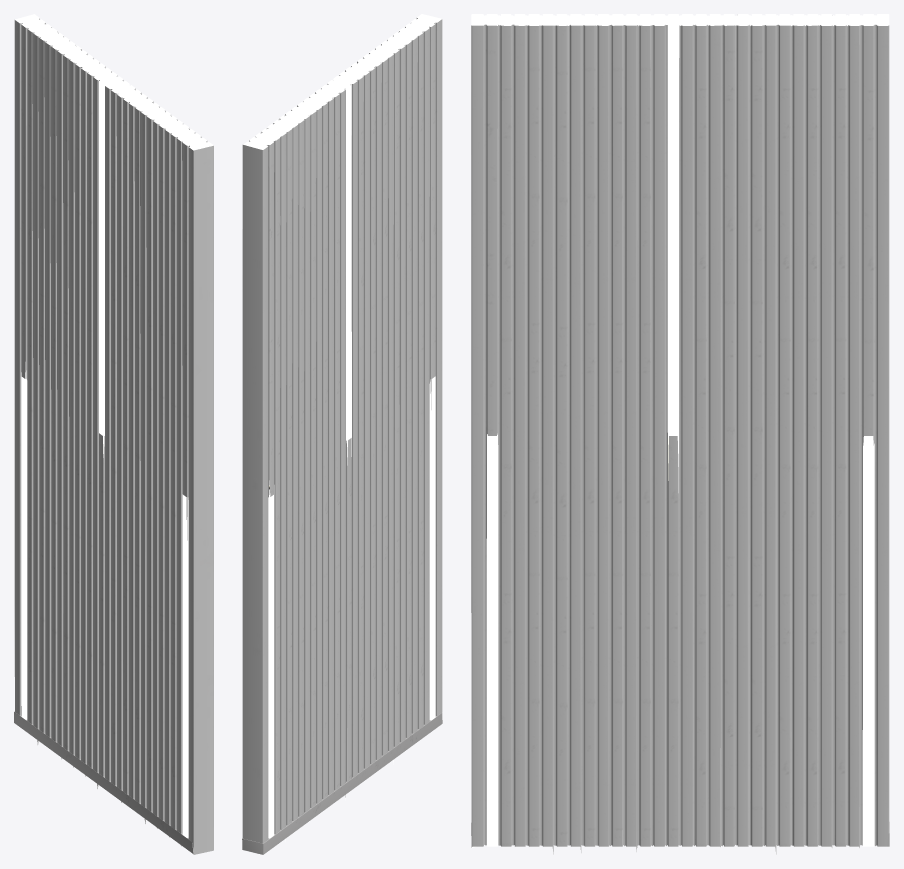
Rendered from SM_Office_wall01j.fbx.
3 views of the same model, side by side, from view 1: azimuth 30°, elevation 25°; view 2: azimuth 150°, elevation 25°; view 3: azimuth 270°, elevation 25° (orthographic). The views are drawn at different scales.
Visible parts, largest first — view 1: SM_Office_wall01j_LOD0; view 2: SM_Office_wall01j_LOD0; view 3: SM_Office_wall01j_LOD0.
Boxes of the visible parts, bbox=[...] form: SM_Office_wall01j_LOD0: bbox=[14, 14, 213, 854]; SM_Office_wall01j_LOD0: bbox=[242, 14, 442, 854]; SM_Office_wall01j_LOD0: bbox=[471, 14, 889, 854].
Size of the model in its own units: 20.43 by 300 by 657.
